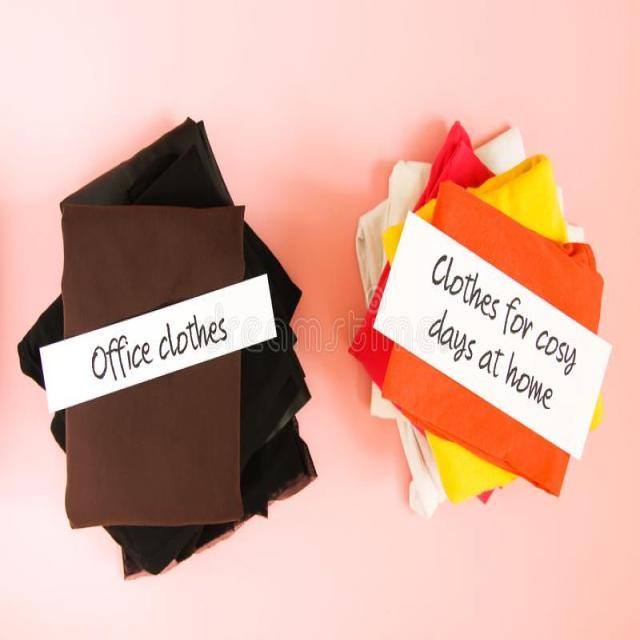clothes: (364, 148, 616, 510)
